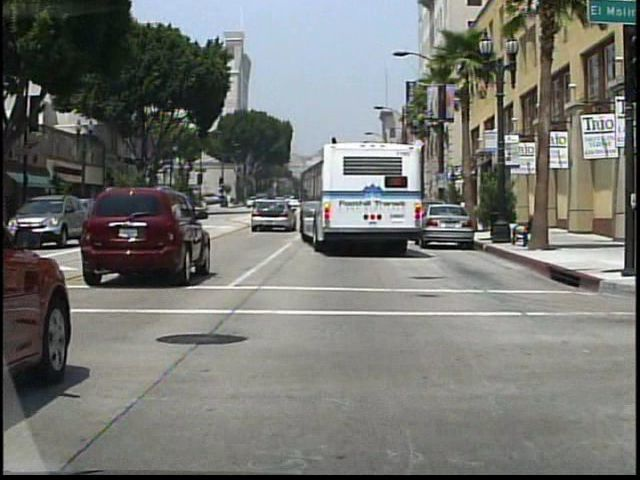person: (454, 190, 460, 206)
